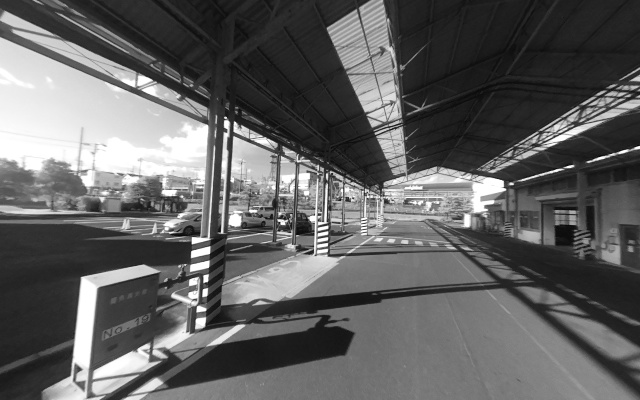bollard: (188, 233, 229, 336), (572, 228, 597, 261), (314, 220, 332, 259), (360, 216, 368, 237), (504, 222, 512, 240), (376, 213, 384, 230)
